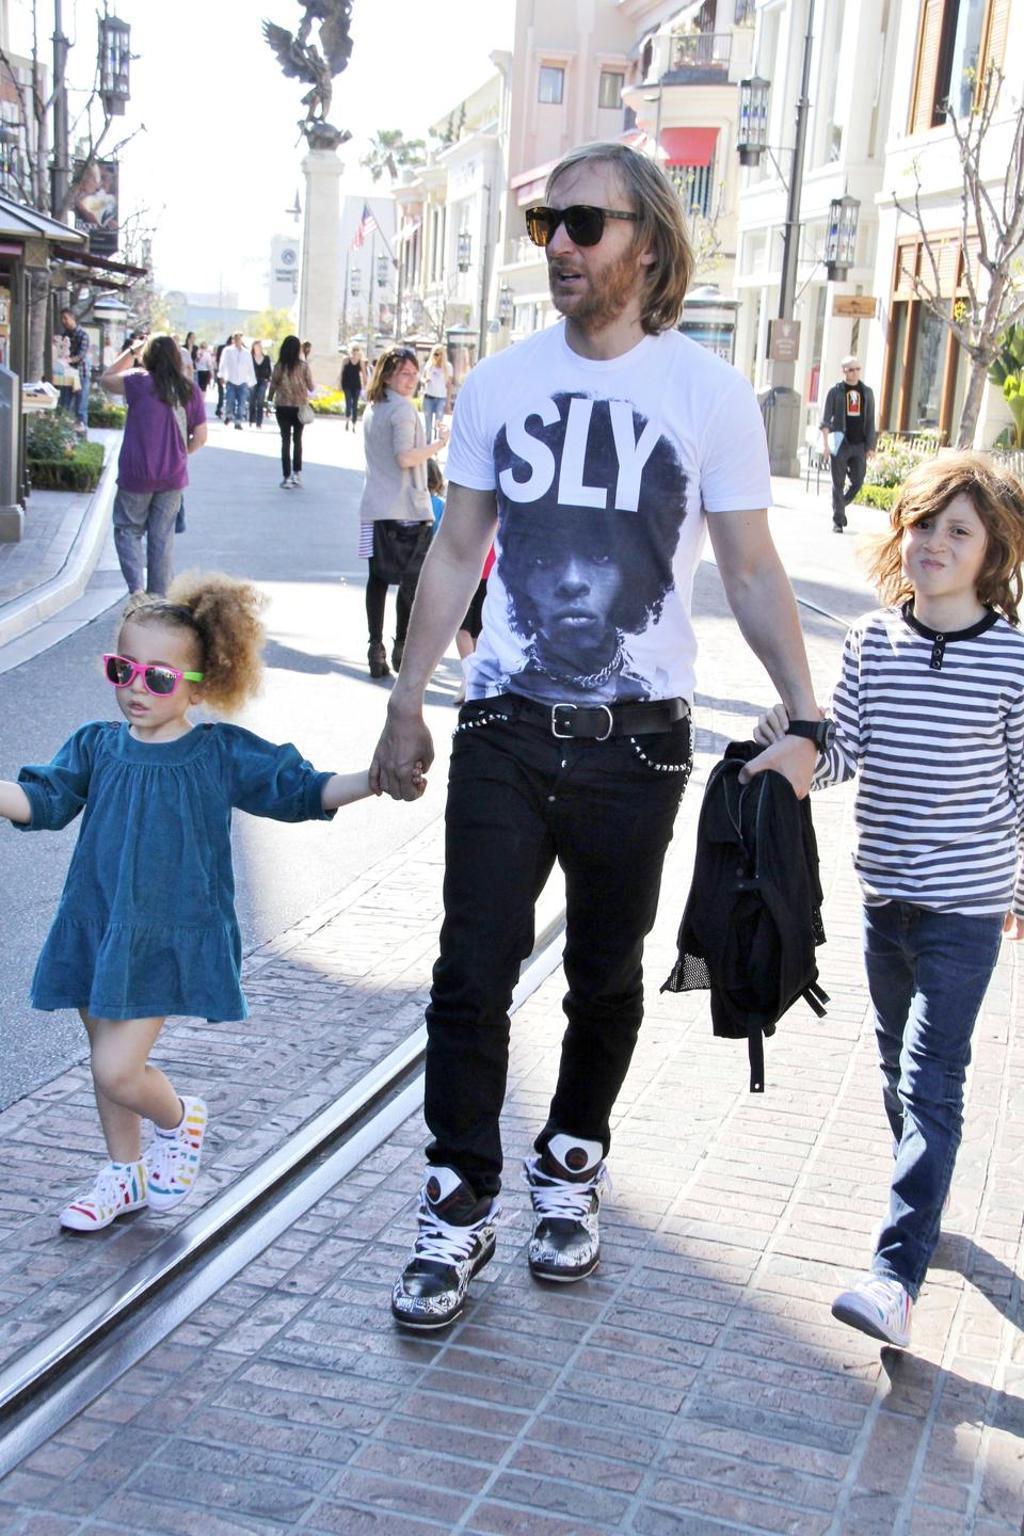face: (517, 509, 626, 648), (546, 177, 645, 309), (903, 493, 989, 594), (115, 634, 195, 727), (391, 363, 418, 396), (94, 169, 112, 194), (86, 170, 101, 192), (847, 364, 861, 380), (61, 315, 71, 329), (434, 351, 442, 361), (254, 345, 260, 354), (235, 336, 241, 346), (353, 349, 360, 356), (171, 336, 177, 344), (191, 334, 196, 341), (306, 347, 310, 353)
